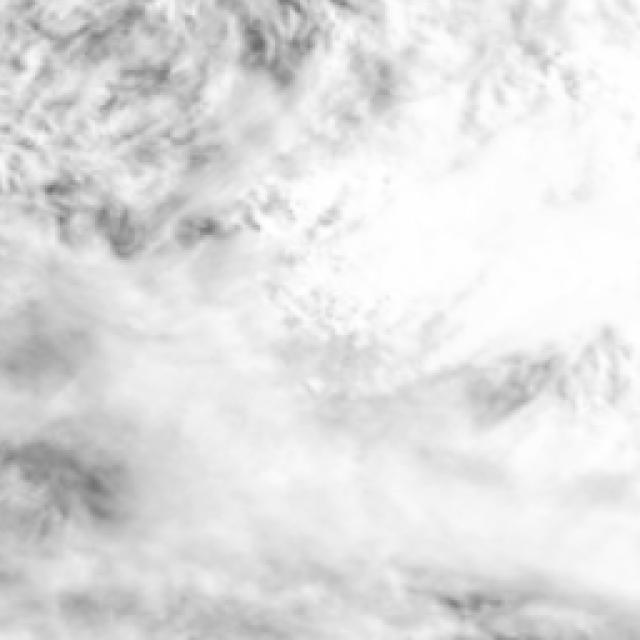CB: (365, 148, 640, 358)
